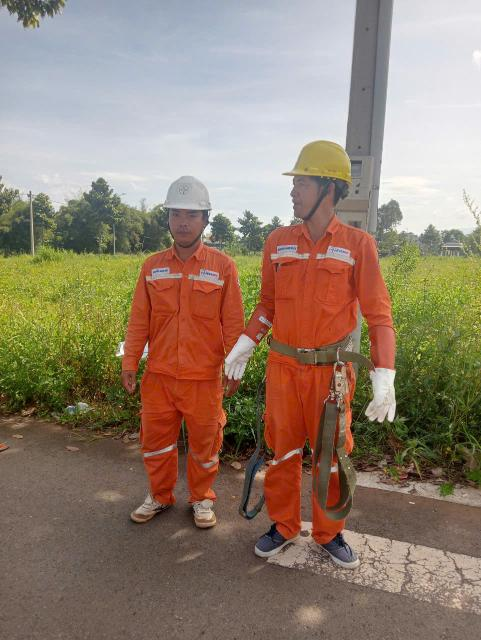gloves: (367, 358, 412, 428), (220, 334, 257, 380)
harness: (267, 326, 367, 377)
helmet: (283, 138, 357, 196), (162, 173, 211, 226)
shoes: (309, 520, 370, 583), (252, 505, 305, 565), (122, 484, 180, 530), (187, 488, 225, 537)
